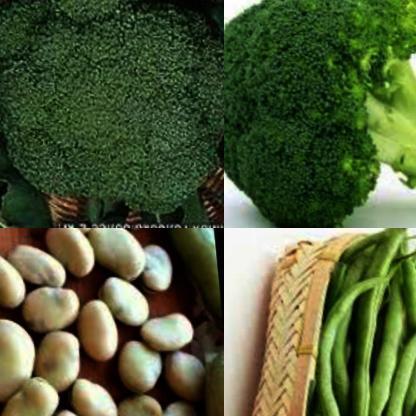beans: (0, 228, 204, 416), (287, 228, 416, 416), (106, 228, 223, 353), (179, 344, 224, 416)
broccoli: (0, 0, 224, 215), (224, 0, 416, 228)
